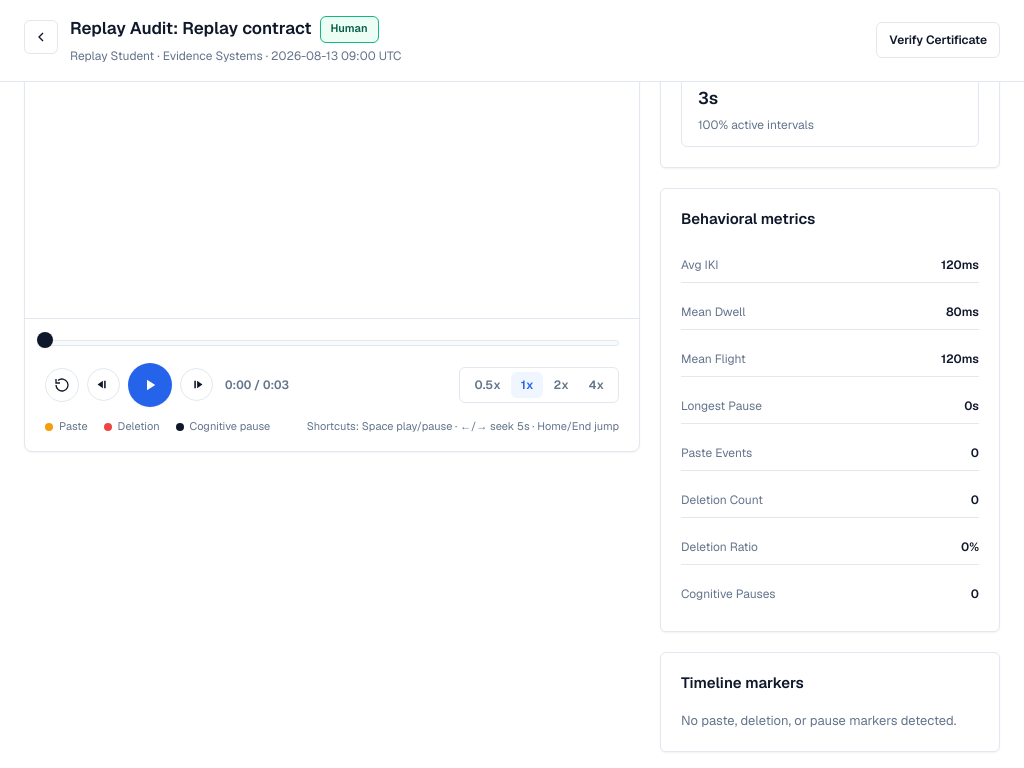
Scenario: ReplayPage › changes playback speed and automatically stops at the end of the replay
This screenshot has width=1024, height=768.
(page scrolled)
expect the heading "Replay Audit: Replay contract" is shown: met, box [70,17,312,41]
Step 1. Click the button "4x" → (596, 384), box [579,372,614,398]
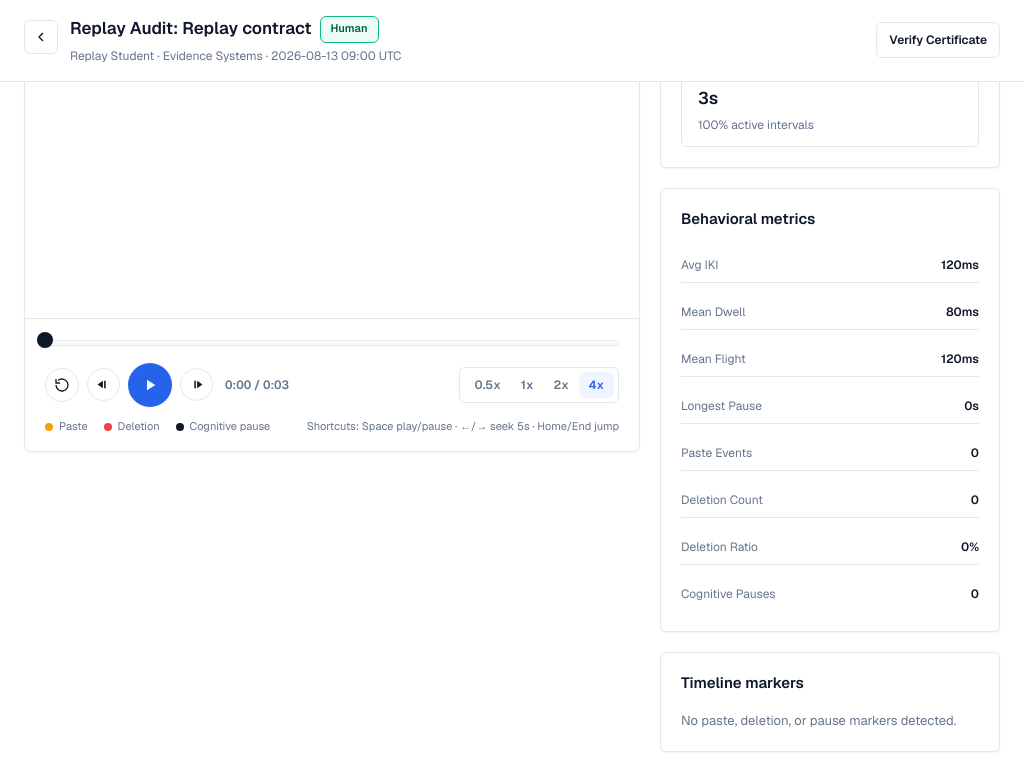
Step 2. Click the button named "Play" → (150, 384), box [128,362,172,406]
Wait 800 ms
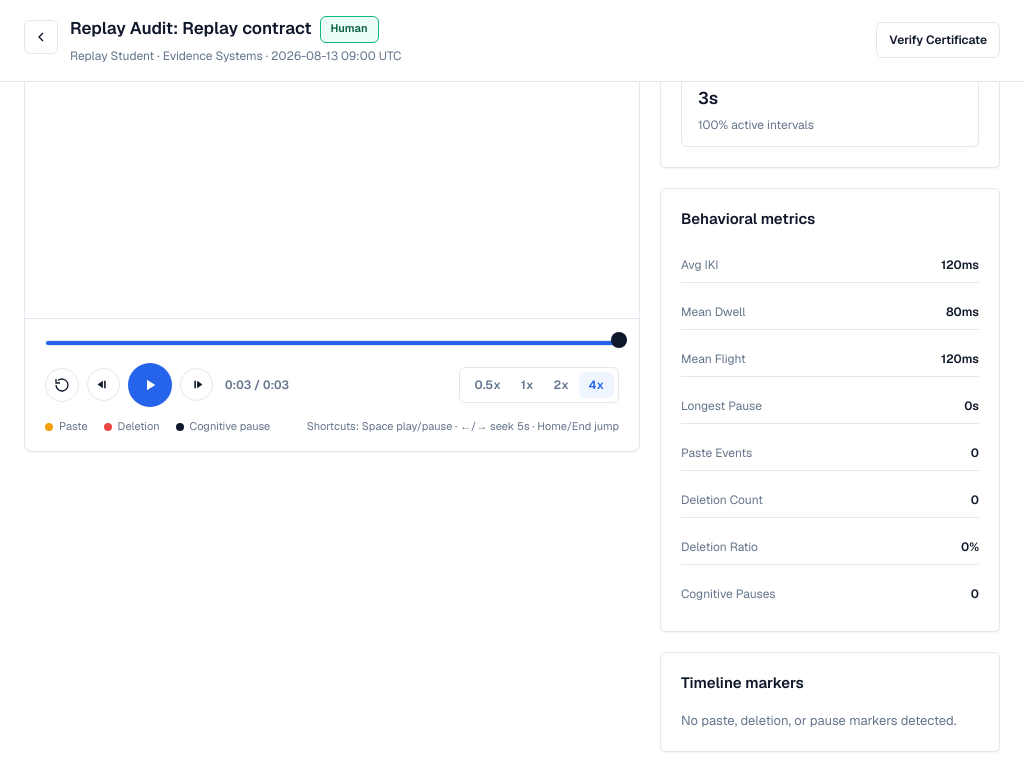
expect the text "0:03 / 0:03" is shown: met, box [225,376,289,394]
